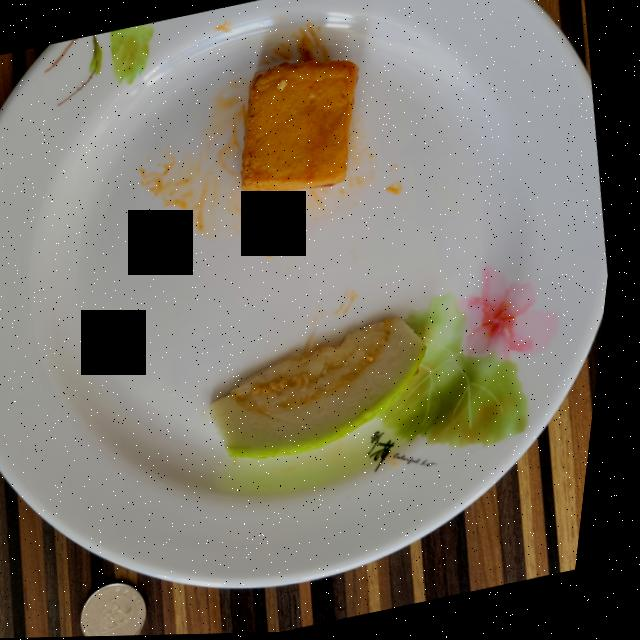coin: (94, 583, 160, 637)
creamy tofu: (245, 62, 359, 200)
guava -sliced-: (217, 320, 434, 460)
